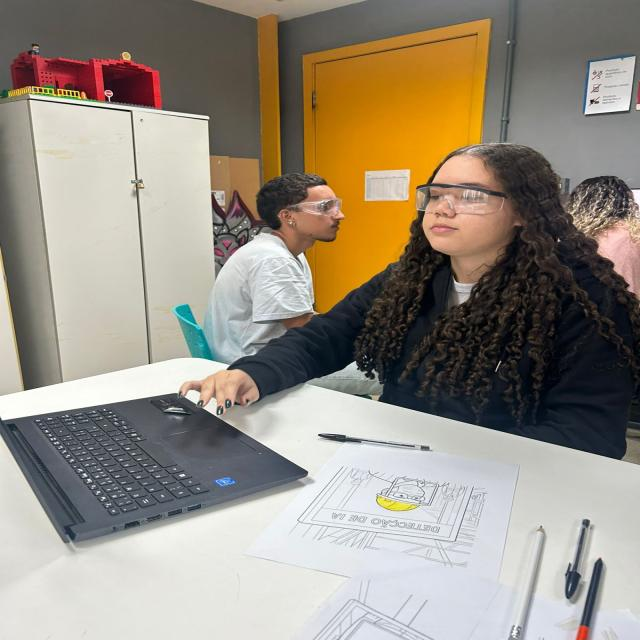oculos-epi: (416, 181, 509, 215), (285, 198, 342, 214)
